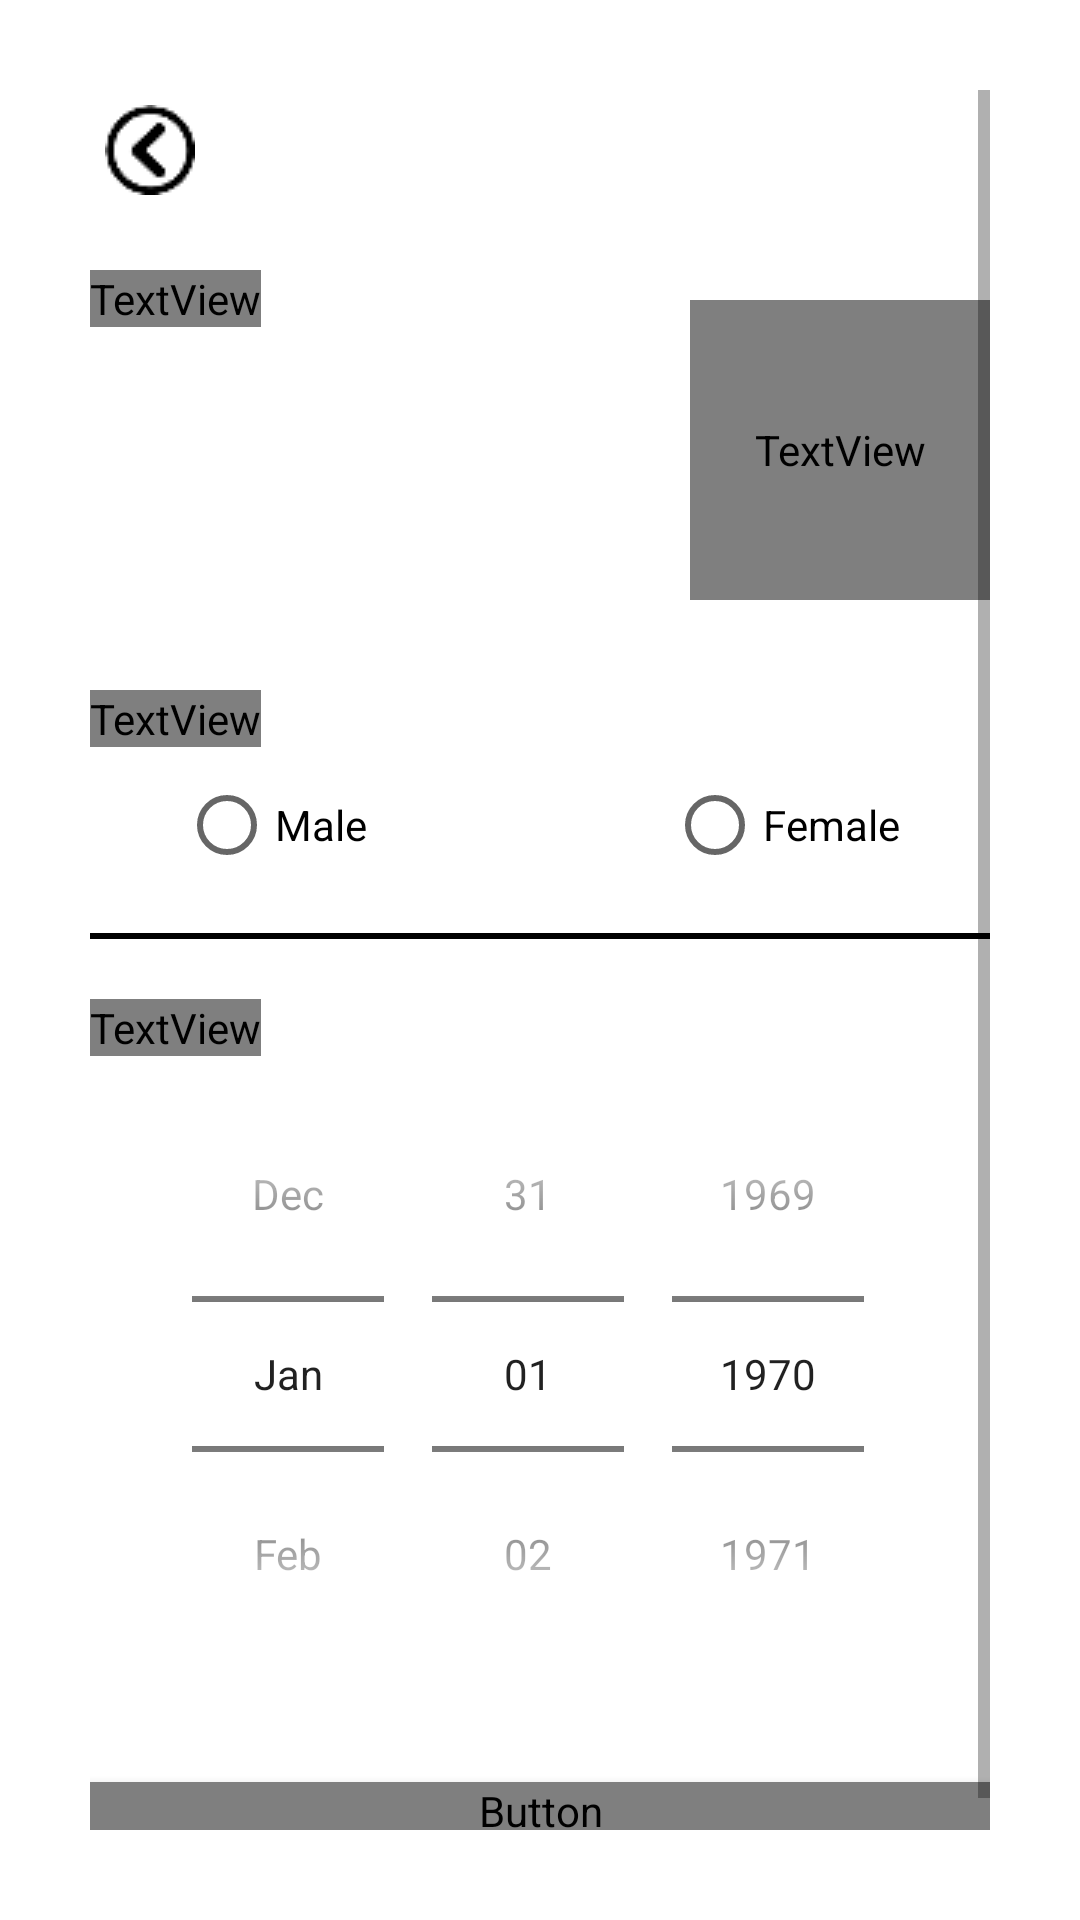

Icon bounding boxes for this 1080 × 1920 phone screenshot, format (x1=x1, y1=y1, x2=x2, y2=y2):
backbtn: (x1=105, y1=105, x2=195, y2=195)
